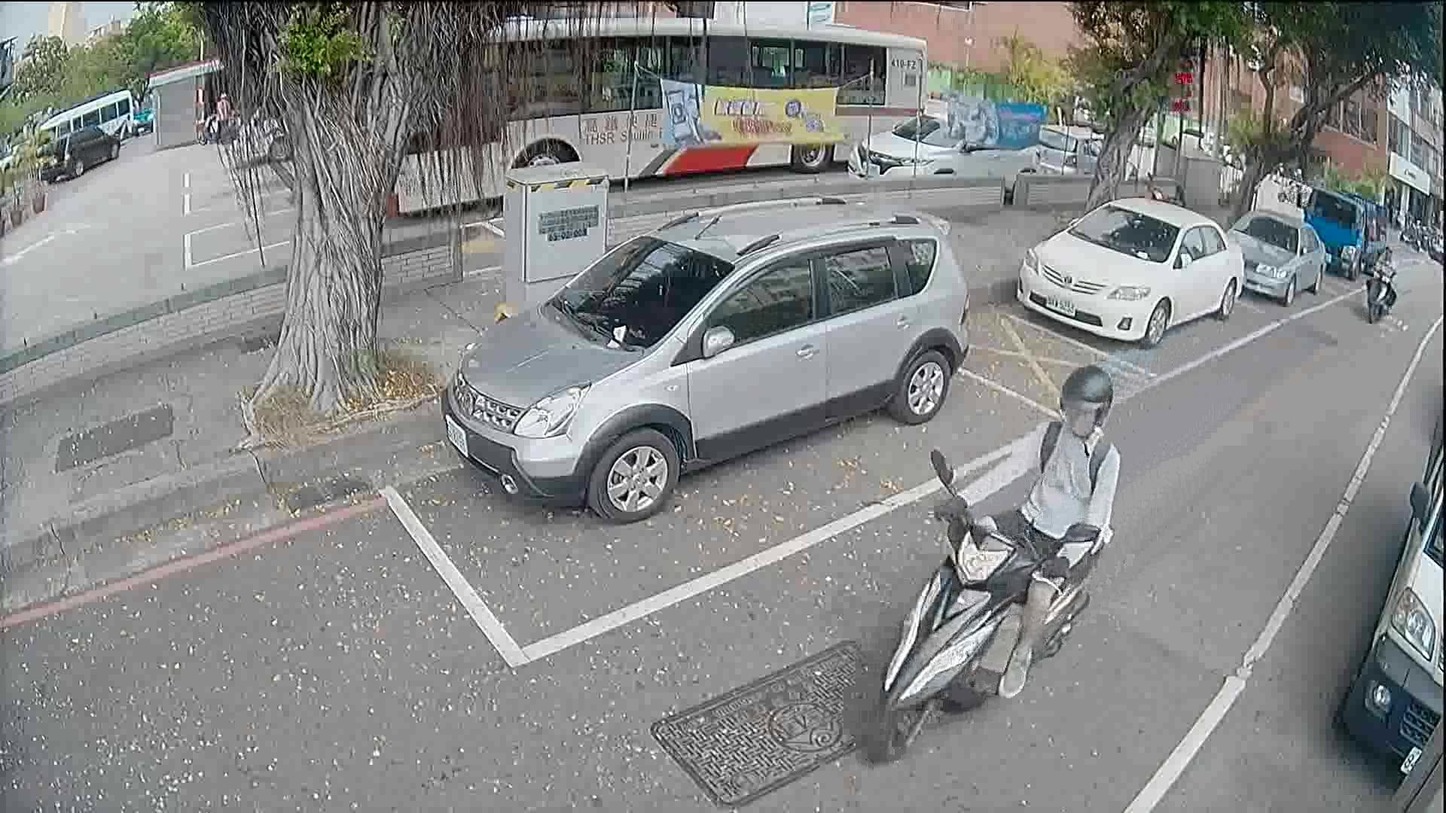person: (929, 359, 1126, 705), (1366, 245, 1396, 306), (208, 85, 232, 143)
